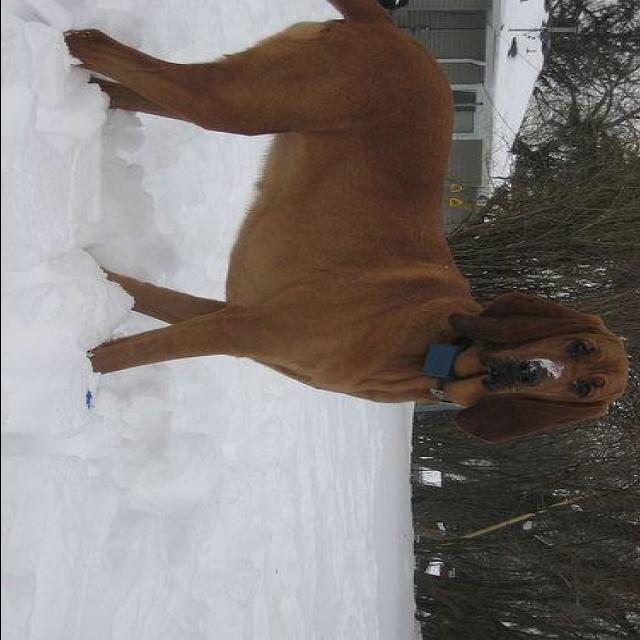bloodhound: (62, 0, 627, 440)
